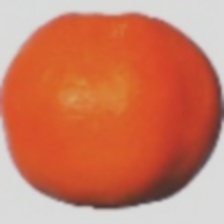tangerine: (28, 22, 185, 187)
